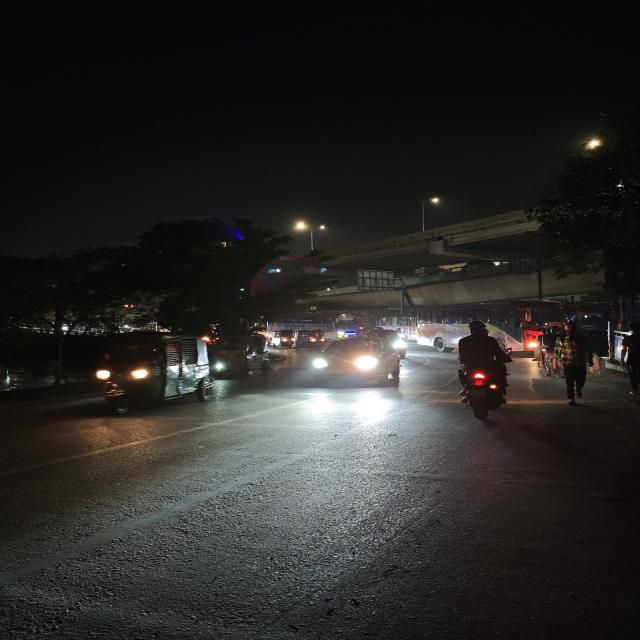bicycle: (530, 322, 566, 376)
car: (311, 332, 412, 390)
cng: (88, 330, 219, 413), (214, 328, 274, 381), (276, 329, 300, 349), (304, 326, 327, 345)
motorcycle: (447, 320, 519, 420)
pedestrian: (556, 347, 600, 407), (617, 318, 640, 402)
